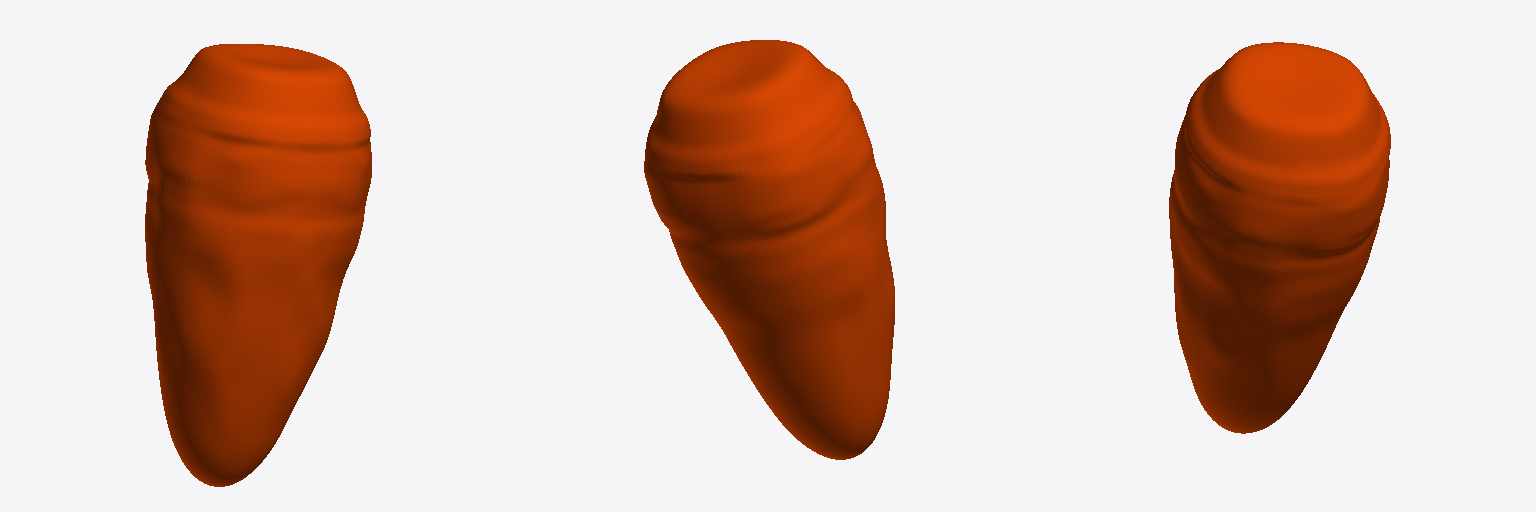
File: carrot_body.obj
3 views of the same model, side by side, from view 1: azimuth 30°, elevation 25°; view 2: azimuth 150°, elevation 25°; view 3: azimuth 270°, elevation 25° (orthographic).
Parts seen in each view (by area): view 1: Cube; view 2: Cube; view 3: Cube.
Boxes of the visible parts, <box> form: Cube: <box>145,44,371,486</box>; Cube: <box>644,40,894,459</box>; Cube: <box>1169,42,1390,433</box>.
Bounding box in the file's own units: 2.21 × 4.12 × 2.06.